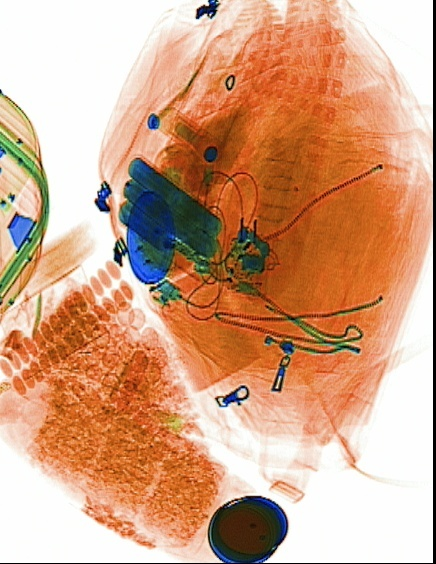powerbank: (115, 153, 223, 274)
